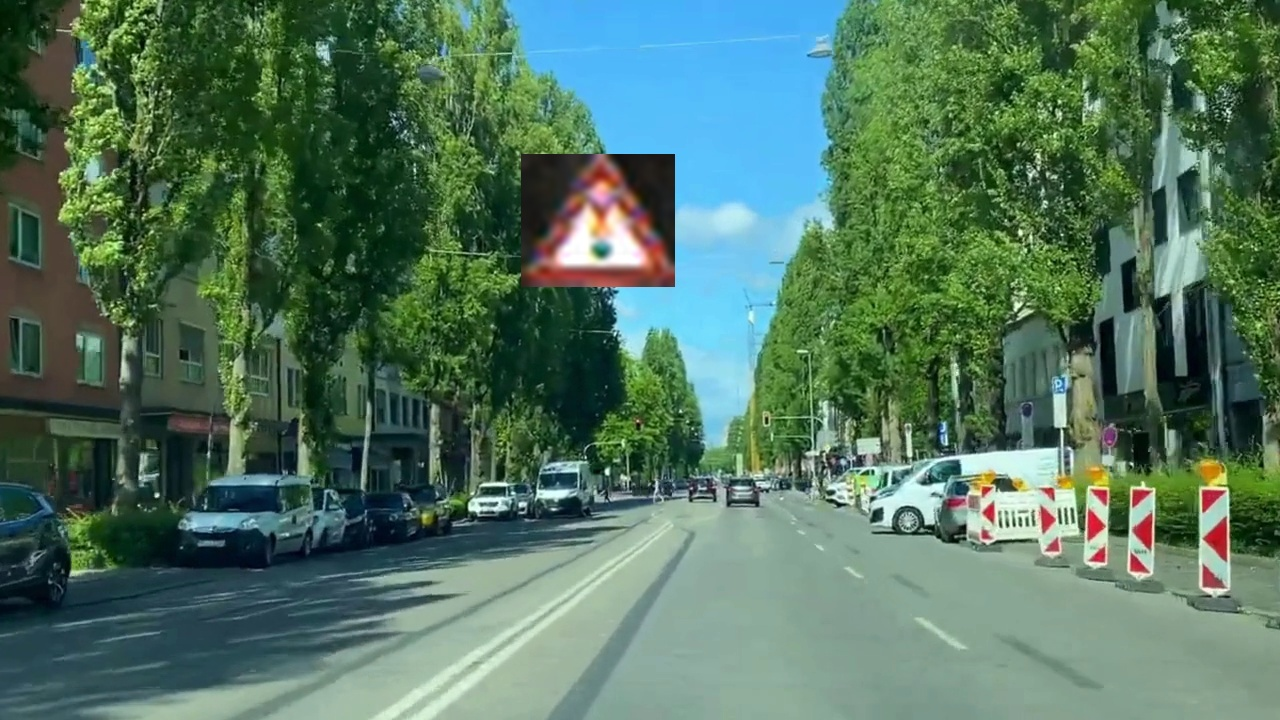Signals: (521, 154, 675, 287)
